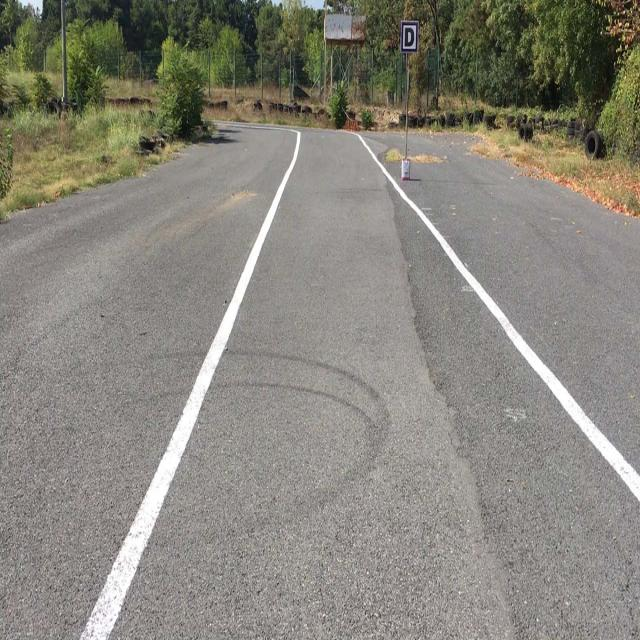durak: (402, 23, 417, 52)
